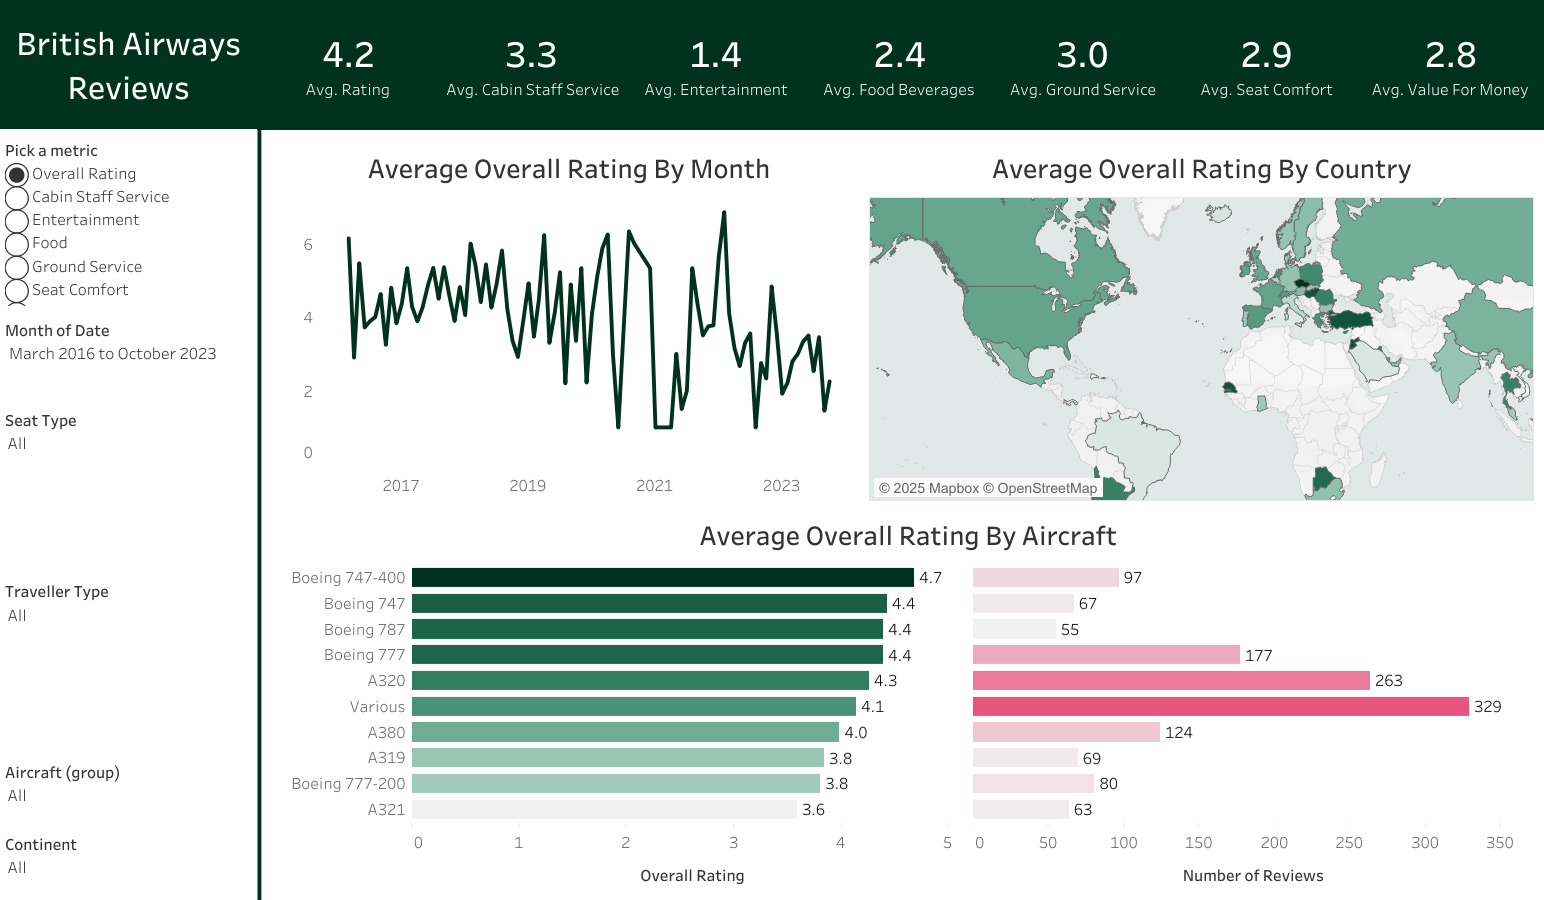

What the dashboard file says about the page in this screenshot:
{"tool":"tableau","page":{"name":"Dashboard 1","canvas":[1200,700],"ordinal":0},"visuals":[{"type":"text","box":[0,0,200,100]},{"type":"worksheet","title":"summary","mark":"Automatic","box":[200,0,999,100]},{"type":"blank","box":[200,100,3,600]},{"type":"parameter","param":"[Parameters].[Parameter 1]","box":[0,102,200,133.3]},{"type":"worksheet","title":"Month","mark":"Automatic","rows":["Calculation_467529988195790848"],"cols":["date"],"box":[220,110,444,280]},{"type":"worksheet","title":"Map","mark":"Automatic","box":[675,110,517,280]},{"type":"filter","title":"Map","param":"[federated.1pcnwoo1g4pvph10ksfk00hadk1e].[tmn:date:qk]","box":[0,235.3,200,73]},{"type":"filter","title":"Map","param":"[federated.1pcnwoo1g4pvph10ksfk00hadk1e].[none:seat_type:nk]","box":[0,308.3,200,133.3]},{"type":"worksheet","title":"Aircraft","mark":"Automatic","cols":["Calculation_467529988195790848","ba_reviews.csv_693B5AD7C0CC43C9AB5E245D8FB67E5F"],"box":[220,395,971,300]},{"type":"filter","title":"Map","param":"[federated.1pcnwoo1g4pvph10ksfk00hadk1e].[none:traveller_type:nk]","box":[0,441.7,200,133.3]},{"type":"filter","title":"Map","param":"[federated.1pcnwoo1g4pvph10ksfk00hadk1e].[Aircraft (group)]","box":[0,575,200,61]},{"type":"filter","title":"Map","param":"[federated.1pcnwoo1g4pvph10ksfk00hadk1e].[none:Continent:nk]","box":[0,636,200,61]}]}

Visuals, with their boxes in screenshot pixels (x1, y1, x2, y2), scaled from the page's 1200x700 canvas onto the 1544x900 screenshot:
text: <box>0,0,257,129</box>
"summary" worksheet: <box>257,0,1543,129</box>
blank: <box>257,129,261,899</box>
parameter: <box>0,131,257,303</box>
"Month" worksheet: <box>283,141,854,501</box>
"Map" worksheet: <box>868,141,1534,501</box>
"Map" filter: <box>0,303,257,396</box>
"Map" filter: <box>0,396,257,568</box>
"Aircraft" worksheet: <box>283,508,1532,894</box>
"Map" filter: <box>0,568,257,739</box>
"Map" filter: <box>0,739,257,818</box>
"Map" filter: <box>0,818,257,896</box>
